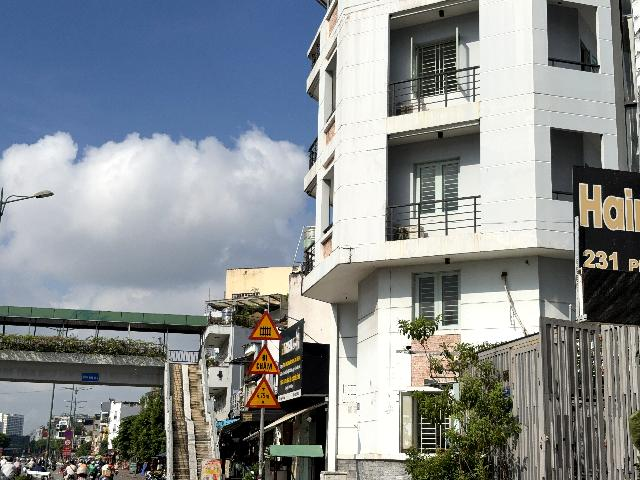chieu-cao-tinh-khong-thuc-te: (245, 376, 281, 409)
di-cham: (247, 344, 281, 374)
noi-giao-nhau-voi-duong-sat-co-rao-chan: (249, 311, 282, 340)
